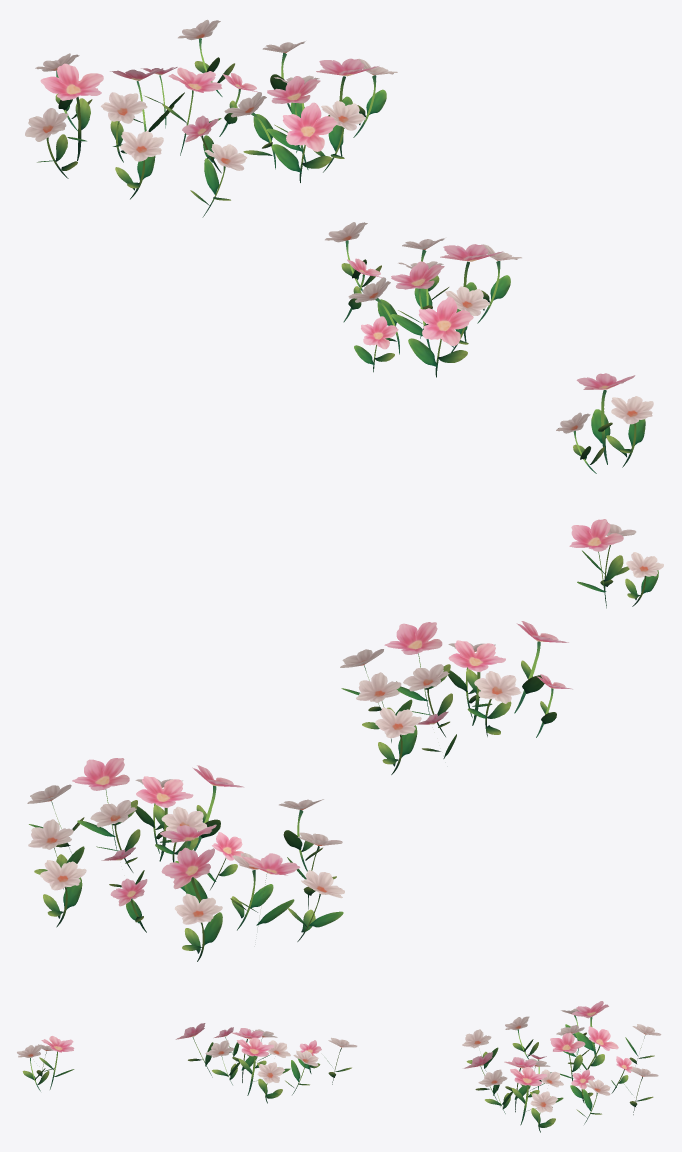
Rendered from flowers.fbx.
3 renders of one model, top to bottom at view 1: azimuth 30°, elevation 25°; view 2: azimuth 150°, elevation 25°; view 3: azimuth 270°, elevation 25°, orthographic. The views are drawn at different scales.
Visible parts, largest first — view 1: Large_Flower_Cluster, Medium_Flower_Cluster, Small_Flower_Cluster; view 2: Large_Flower_Cluster, Medium_Flower_Cluster, Small_Flower_Cluster; view 3: Large_Flower_Cluster, Medium_Flower_Cluster, Small_Flower_Cluster.
Boxes of the visible parts, bbox=[...] form: Large_Flower_Cluster: bbox=[25, 19, 397, 217]; Medium_Flower_Cluster: bbox=[325, 222, 521, 377]; Small_Flower_Cluster: bbox=[556, 373, 653, 473]; Large_Flower_Cluster: bbox=[27, 758, 344, 961]; Medium_Flower_Cluster: bbox=[340, 621, 572, 774]; Small_Flower_Cluster: bbox=[569, 519, 663, 608]; Large_Flower_Cluster: bbox=[462, 1001, 661, 1132]; Medium_Flower_Cluster: bbox=[175, 1023, 357, 1103]; Small_Flower_Cluster: bbox=[17, 1036, 74, 1091].
Bounding box in the file's own units: 210 × 57.51 × 544.
